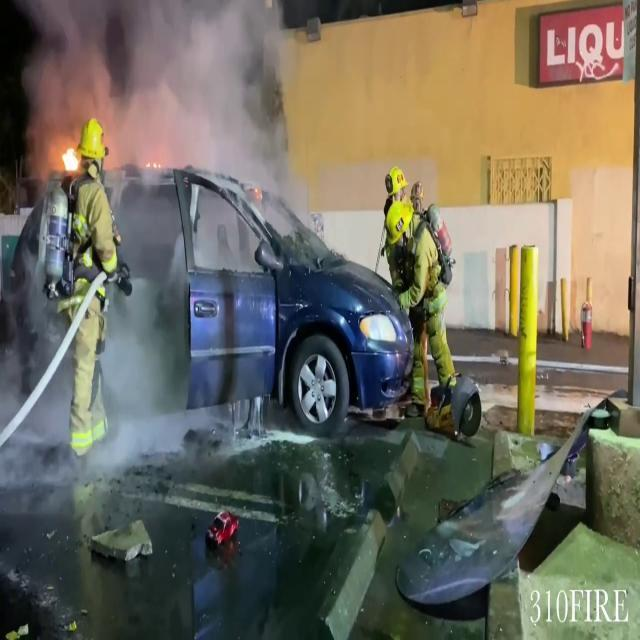Smoke: (12, 0, 306, 201)
